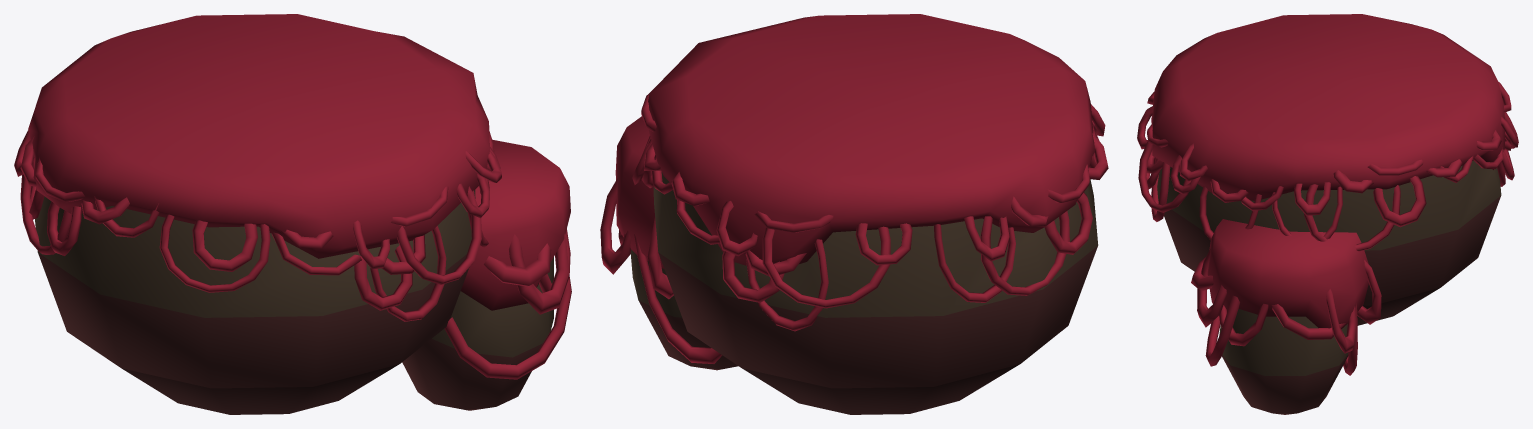
Rendered from Alien_Island07.fbx.
3 views of the same model, side by side, from view 1: azimuth 30°, elevation 25°; view 2: azimuth 150°, elevation 25°; view 3: azimuth 270°, elevation 25° (orthographic). The views are drawn at different scales.
Visible parts, largest first — view 1: Alien_Island07; view 2: Alien_Island07; view 3: Alien_Island07.
Part boxes in pixels (x1,y1,x2,y2): Alien_Island07: [14, 14, 571, 414]; Alien_Island07: [600, 14, 1108, 414]; Alien_Island07: [1137, 14, 1518, 414].
Bounding box in the file's own units: 8896 × 6063 × 7850.
